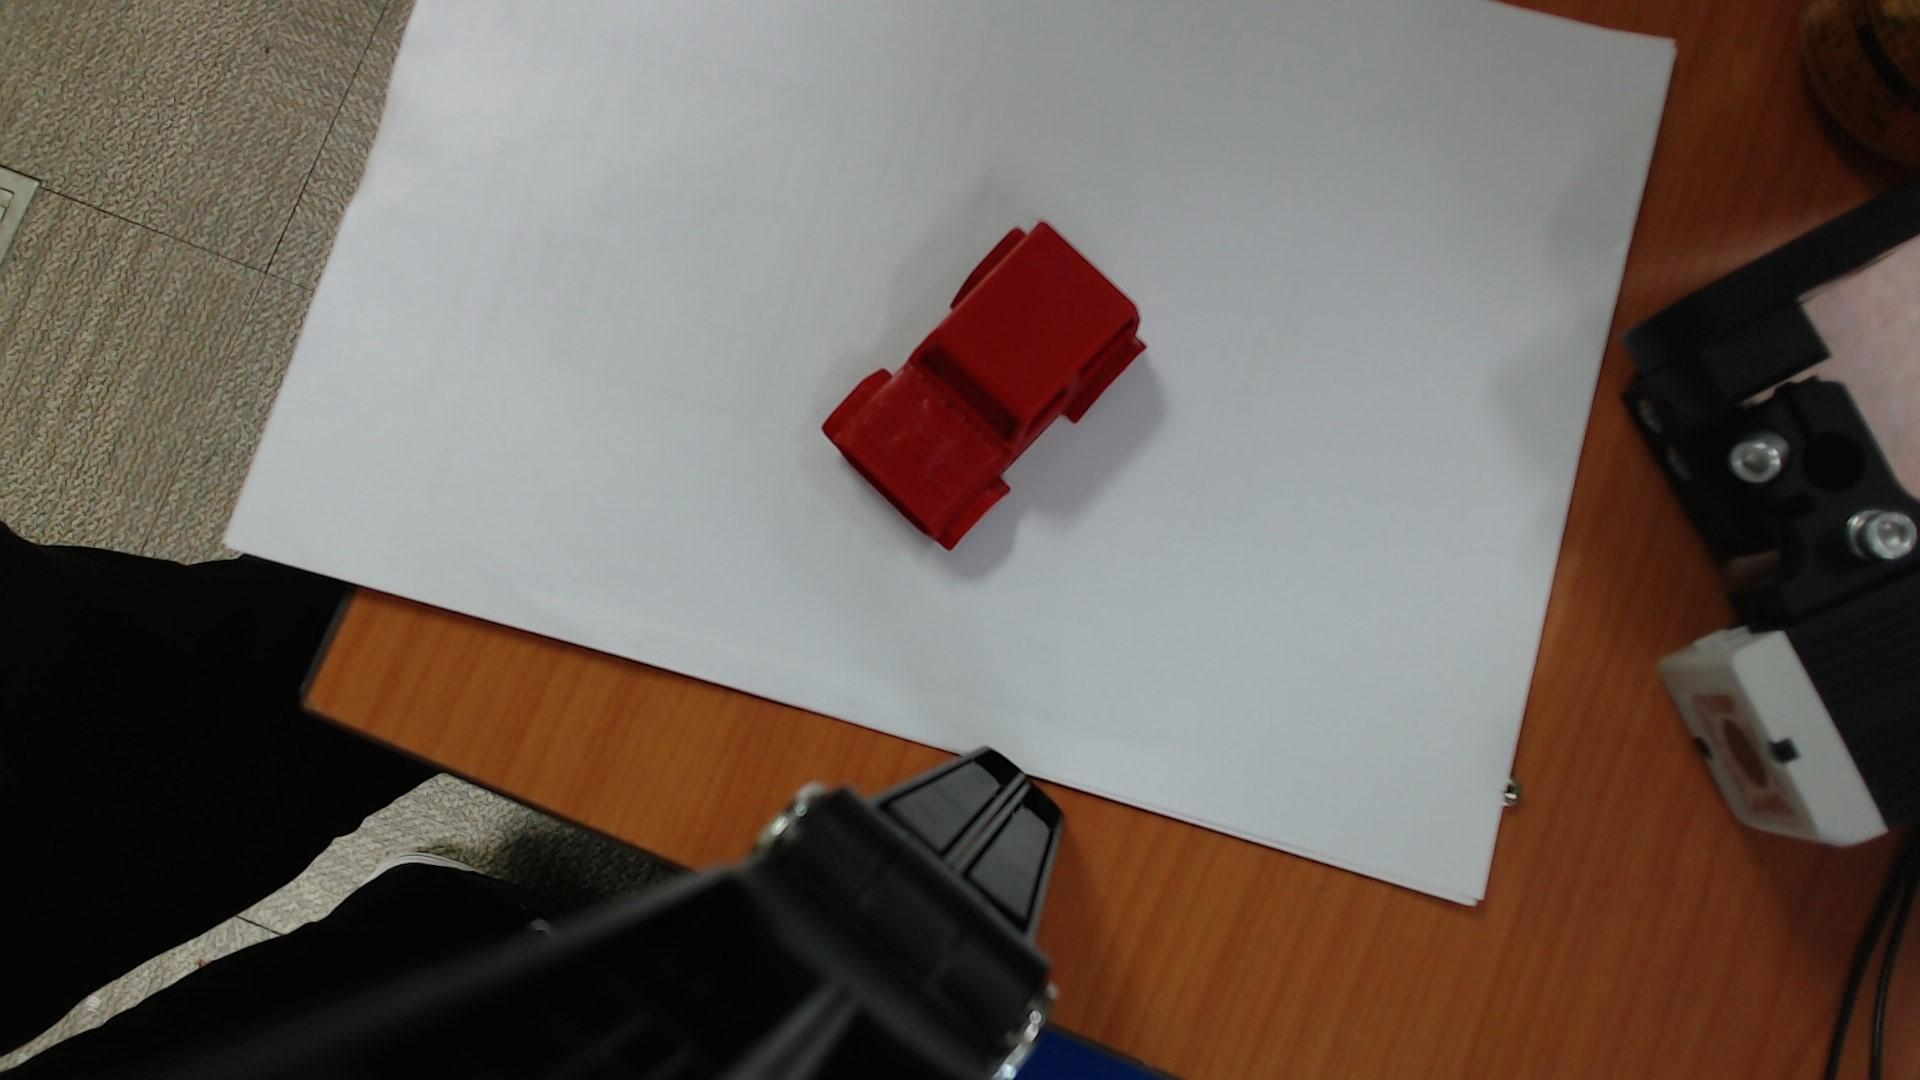Upper_ok: (823, 222, 1143, 549)
